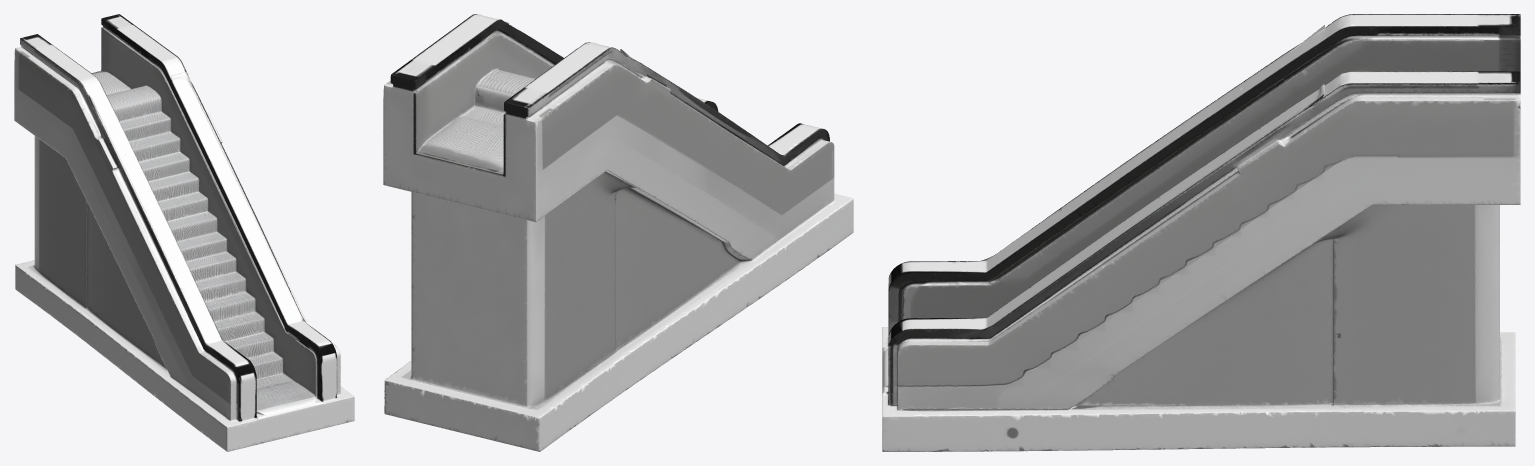
File: laura-escalator.glb
3 renders of one model, left to right at view 1: azimuth 30°, elevation 25°; view 2: azimuth 150°, elevation 25°; view 3: azimuth 270°, elevation 25°, orthographic. The views are drawn at different scales.
Size of the model in its own units: 0.6315 by 1.18 by 1.9.
1 material, 1 textured.
